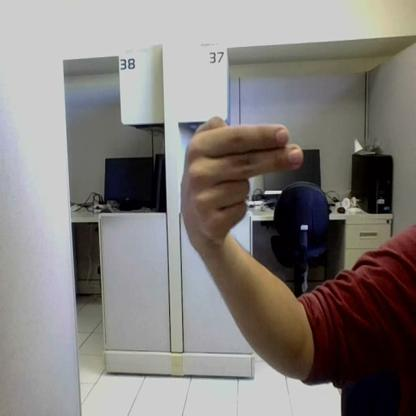H: (187, 117, 302, 244)
